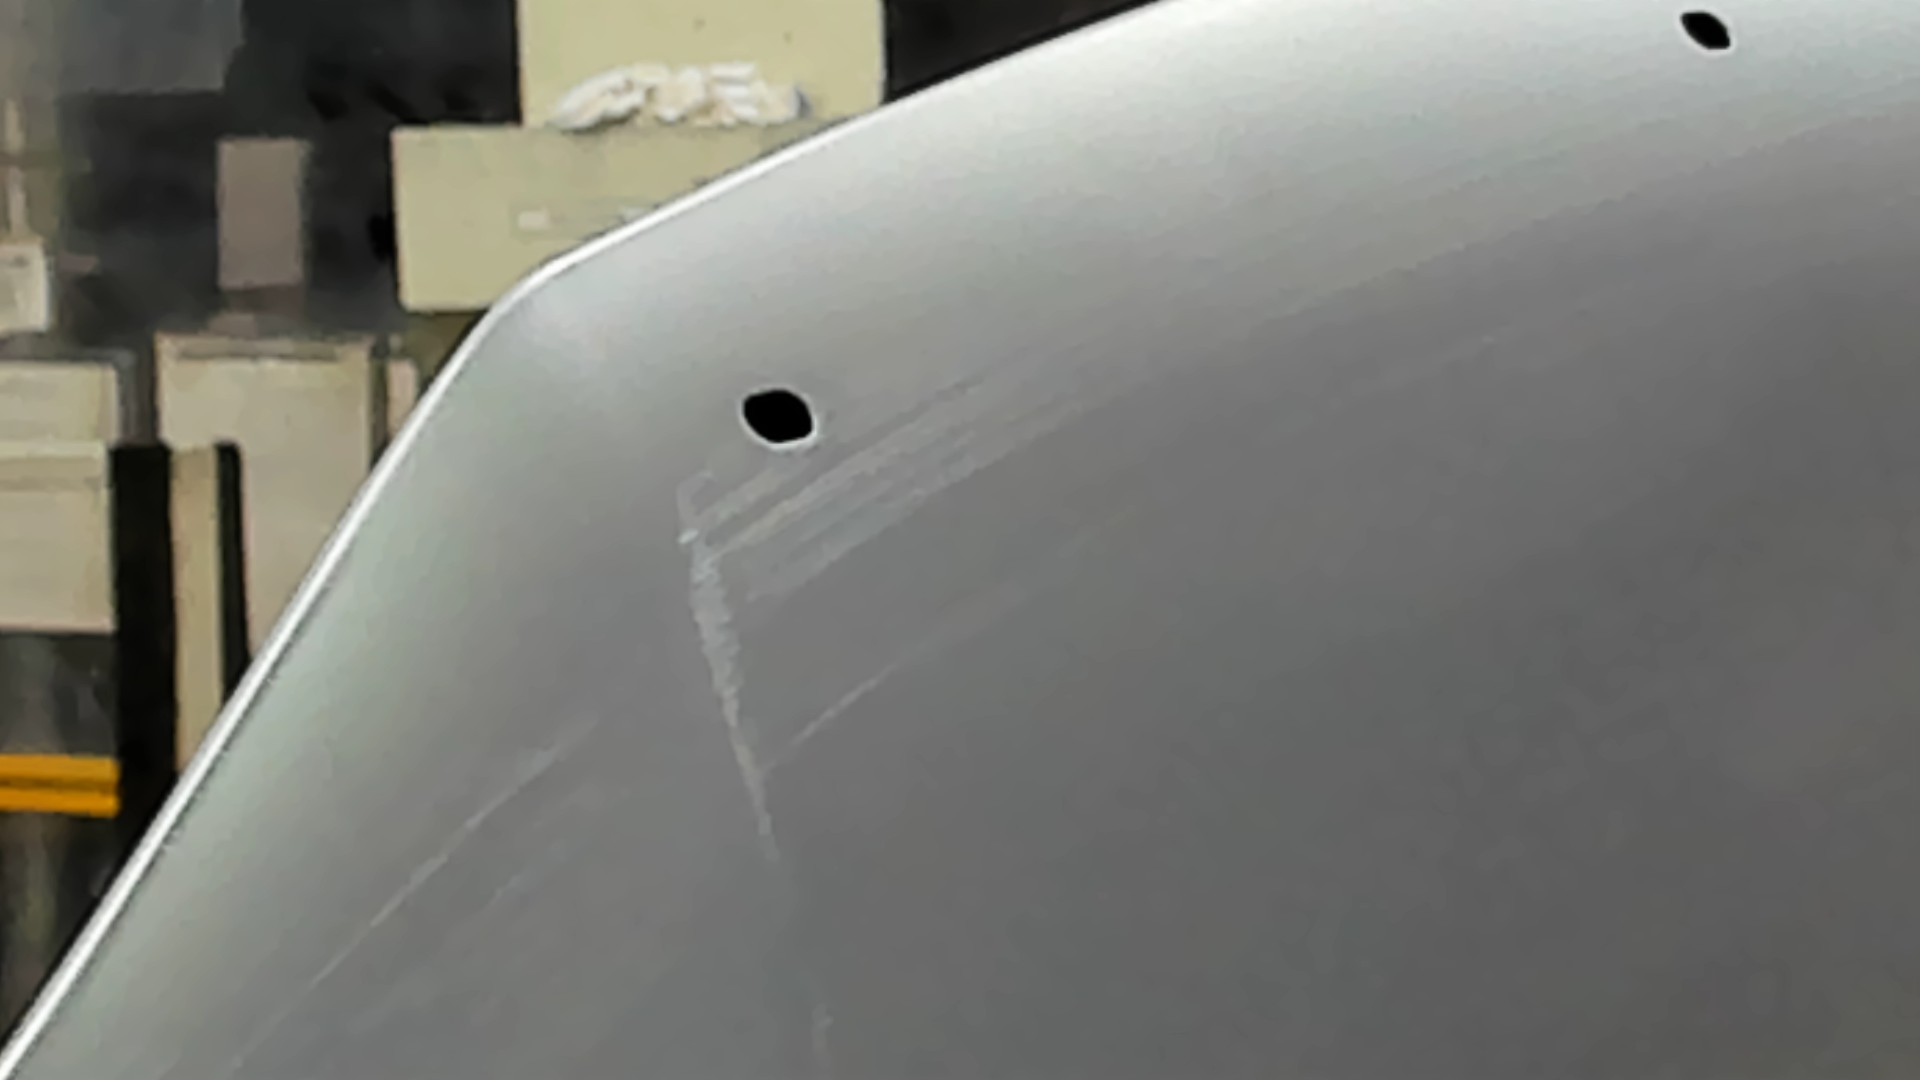amorfo: (735, 382, 827, 454), (1669, 7, 1737, 58)
capo: (919, 102, 1920, 1080)
